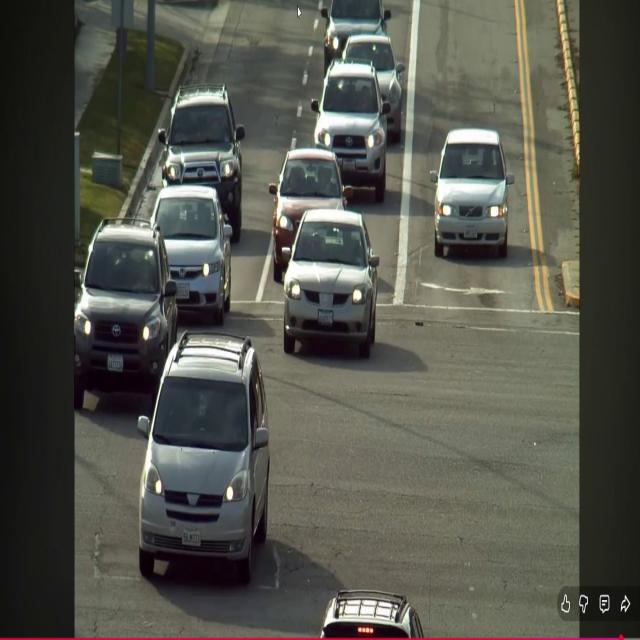car: (137, 331, 269, 584), (74, 218, 177, 409), (283, 209, 379, 358), (158, 84, 245, 242), (151, 185, 232, 325), (269, 148, 352, 283), (311, 61, 390, 202), (430, 128, 514, 258), (342, 34, 405, 142), (320, 0, 391, 75), (320, 590, 424, 638)
